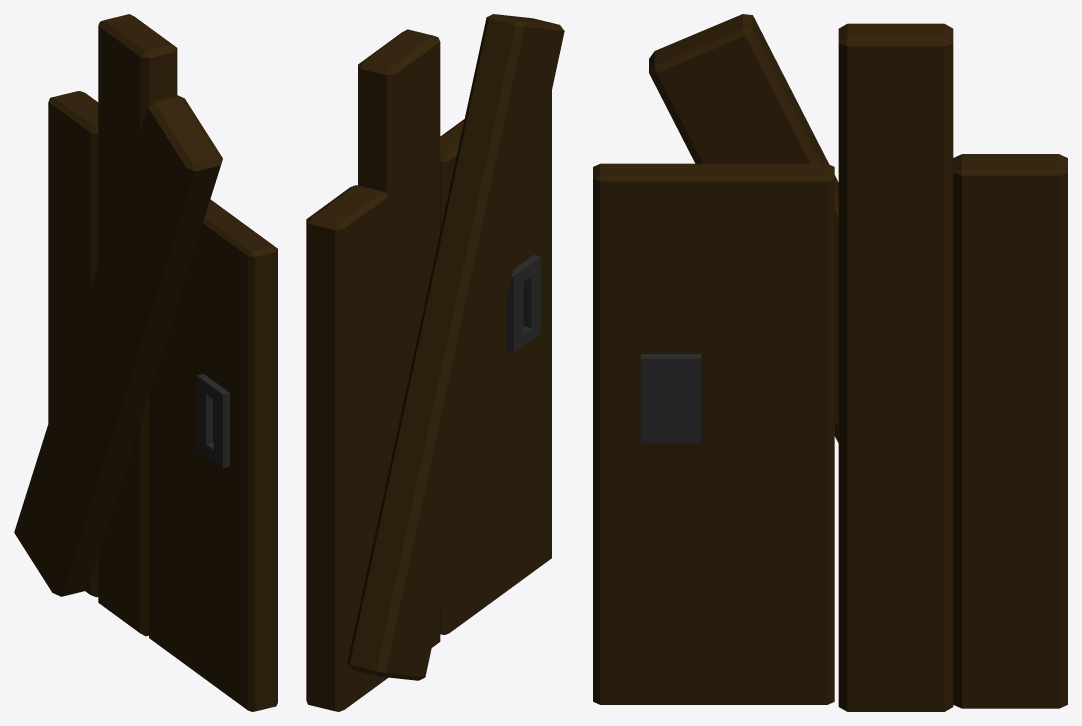
The model's file is Door1.obj.
3 views of the same model, side by side, from view 1: azimuth 30°, elevation 25°; view 2: azimuth 150°, elevation 25°; view 3: azimuth 270°, elevation 25° (orthographic). The views are drawn at different scales.
Parts seen in each view (by area): view 1: Door1; view 2: Door1; view 3: Door1.
Boxes of the visible parts, left/top/right/bottom form: Door1: left=14, top=14, right=277, bottom=711; Door1: left=306, top=14, right=564, bottom=711; Door1: left=593, top=14, right=1067, bottom=711.
Size of the model in its own units: 1.66 by 12.33 by 7.87.
